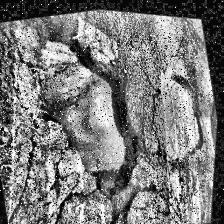pothole: (14, 18, 162, 216), (188, 104, 210, 148)
